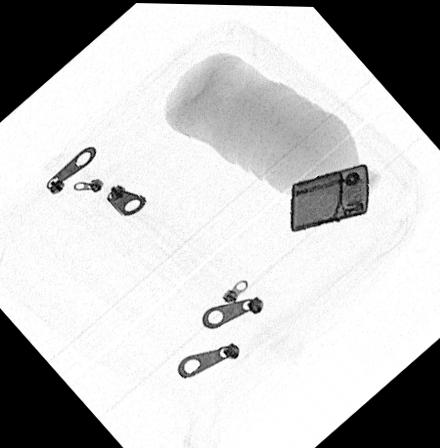Lighter: (289, 161, 369, 230)
